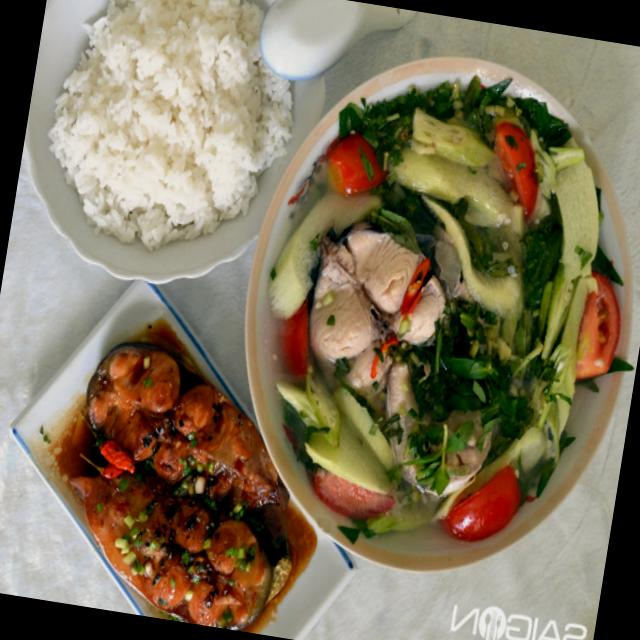ca kho: (72, 343, 291, 630)
canh chua: (269, 76, 631, 540)
com: (50, 0, 292, 248)
